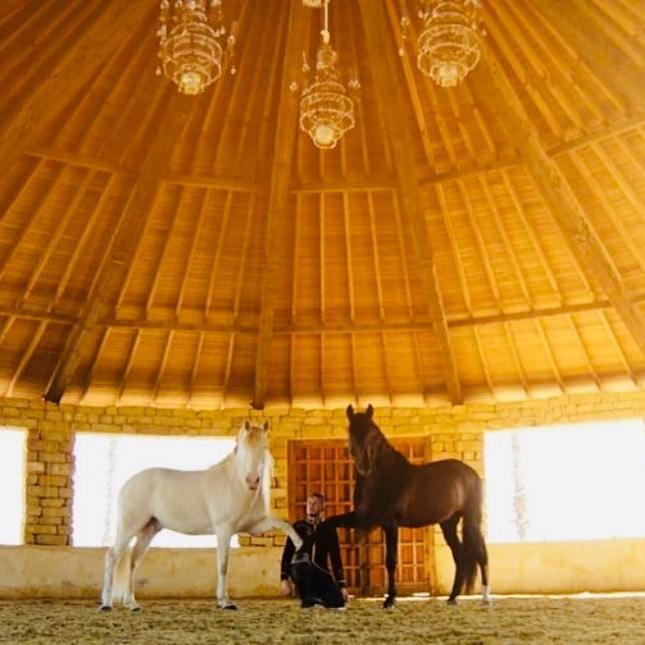horse: (97, 418, 306, 613), (344, 402, 491, 610)
